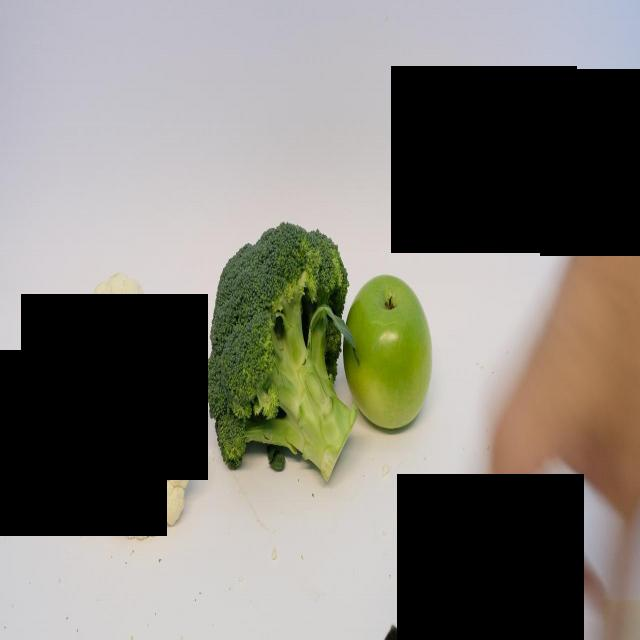apple: (351, 276, 429, 430)
broccoli: (209, 211, 346, 482)
cauliflower: (58, 269, 197, 546)
